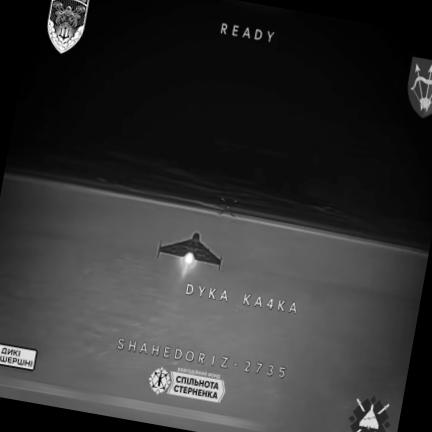Shahed: (157, 233, 222, 269)
